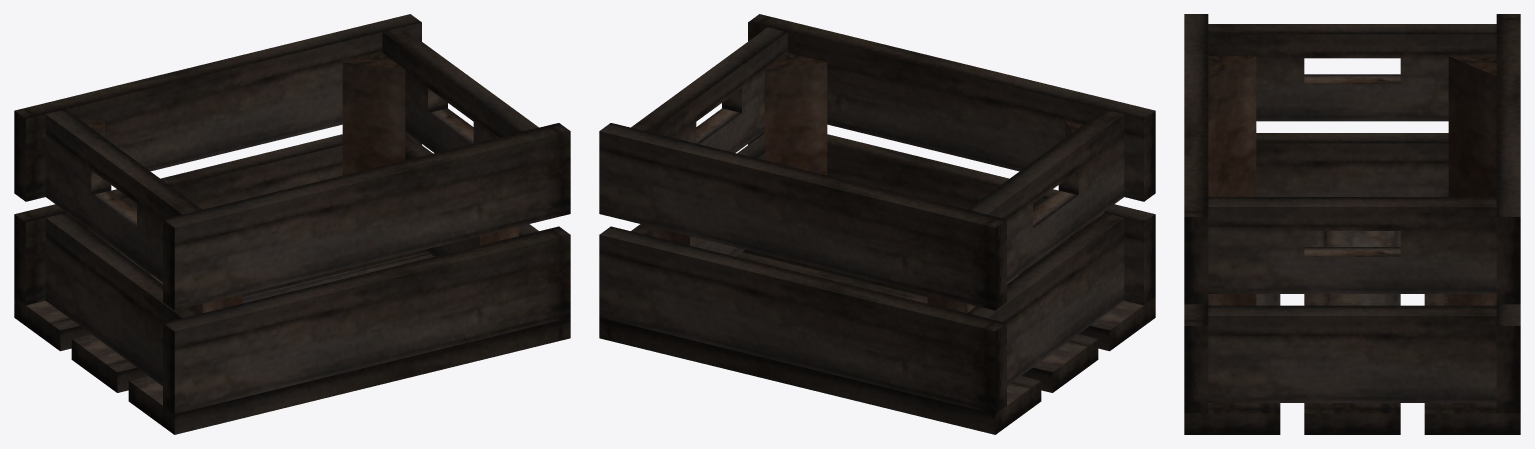
Rendered from wooden_crate_1.obj.
3 renders of one model, left to right at view 1: azimuth 30°, elevation 25°; view 2: azimuth 150°, elevation 25°; view 3: azimuth 270°, elevation 25°, orthographic. The views are drawn at different scales.
Parts seen in each view (by area): view 1: wooden_crate_1; view 2: wooden_crate_1; view 3: wooden_crate_1.
Part boxes in pixels (x1,y1,x2,y2): wooden_crate_1: (14, 14, 570, 434); wooden_crate_1: (599, 14, 1155, 434); wooden_crate_1: (1184, 14, 1520, 434).
Bounding box in the file's own units: 0.72 × 0.36 × 0.504.
